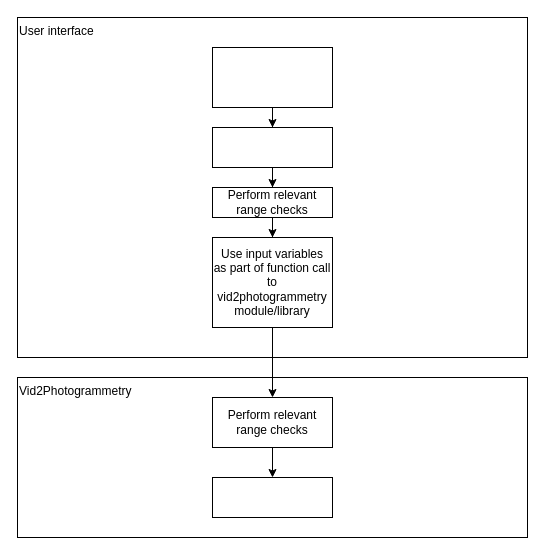
Some shapes in this 545 by 555 pixel diagram are drawn without their labels. The box of each missing label's shape, as (x1, y1, x2, y2) in pixels:
Get input from user, store in relevant variables: (212, 46, 332, 108)
Perform whichever function was called: (212, 476, 332, 518)
Presence check all variables: (212, 126, 332, 168)
